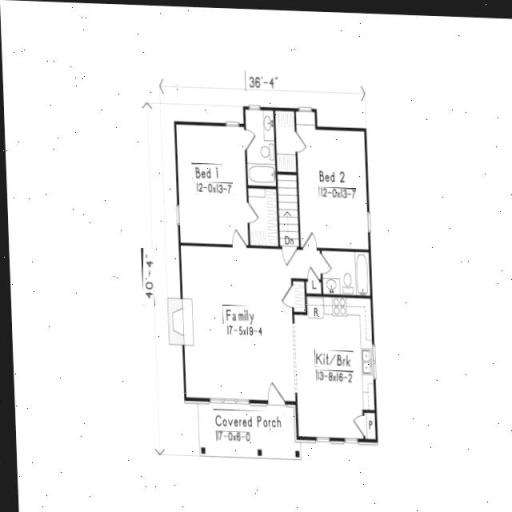bedroom: (184, 122, 266, 245), (308, 118, 372, 244)
hall: (183, 250, 297, 393)
kitchen: (308, 303, 371, 444)
porch: (200, 406, 291, 456)
